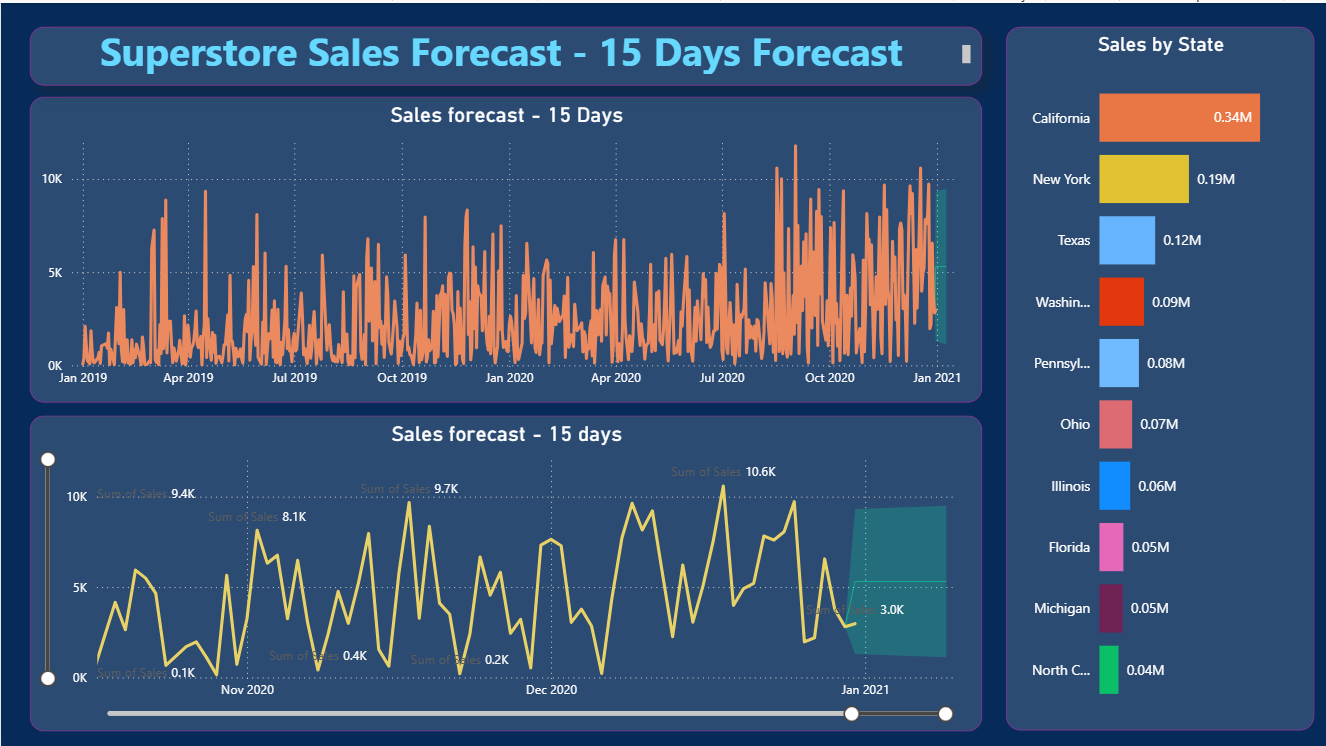

The page's visual inventory and layout, read from the dashboard file:
{"tool":"powerbi","page":{"name":"Sales Forecasting","canvas":[1280,720],"ordinal":1},"visuals":[{"type":"clusteredBarChart","title":"Sales by State","fields":{"Y":["Sum(SuperStore_Sales_Dataset.Sales)"],"Category":["SuperStore_Sales_Dataset.State"]},"box":[970.2,23.3,297.8,679.2],"z":0},{"type":"lineChart","title":"Sales forecast - 15 Days","fields":{"Y":["Sum(SuperStore_Sales_Dataset.Sales)"],"Category":["SuperStore_Sales_Dataset.Order Date"]},"box":[27.4,90.6,919.4,295],"z":1000},{"type":"lineChart","title":"Sales forecast - 15 days","fields":{"Y":["Sum(SuperStore_Sales_Dataset.Sales)"],"Category":["SuperStore_Sales_Dataset.Order Date"]},"box":[27.4,397.9,919.4,304.6],"z":2000},{"type":"textbox","box":[27.7,22.9,919.3,56.7],"z":3000}]}

Visuals, with their boxes in screenshot pixels (x1, y1, x2, y2), scaled from the page's 1280x720 canvas onto the 1326x746 screenshot:
"Sales by State" clusteredBarChart: bbox=[1005, 24, 1314, 728]
"Sales forecast - 15 Days" lineChart: bbox=[28, 94, 981, 400]
"Sales forecast - 15 days" lineChart: bbox=[28, 412, 981, 728]
textbox: bbox=[29, 24, 981, 82]
